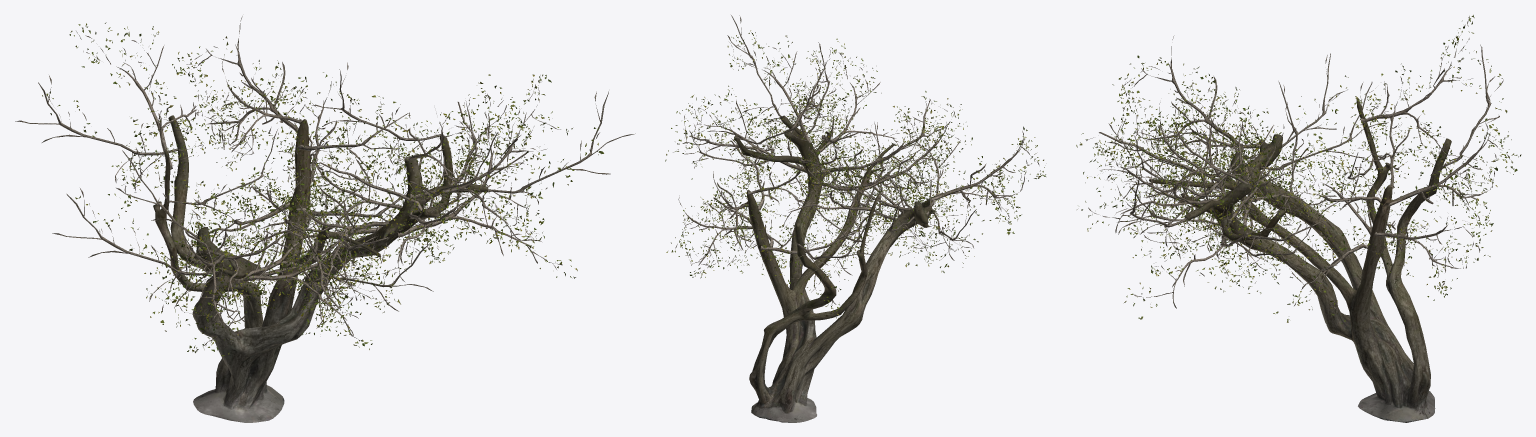
The model's file is island_tree_02.glb.
3 views of the same model, side by side, from view 1: azimuth 30°, elevation 25°; view 2: azimuth 150°, elevation 25°; view 3: azimuth 270°, elevation 25° (orthographic). The views are drawn at different scales.
Parts seen in each view (by area): view 1: island_tree_02_LOD0; view 2: island_tree_02_LOD0; view 3: island_tree_02_LOD0.
Part boxes in pixels (x1,y1,x2,y2): island_tree_02_LOD0: (15,16,635,422); island_tree_02_LOD0: (665,15,1045,422); island_tree_02_LOD0: (1076,15,1521,422).
Bounding box in the file's own units: 4.21 × 3.36 × 4.01.
3 materials, 3 textured.
